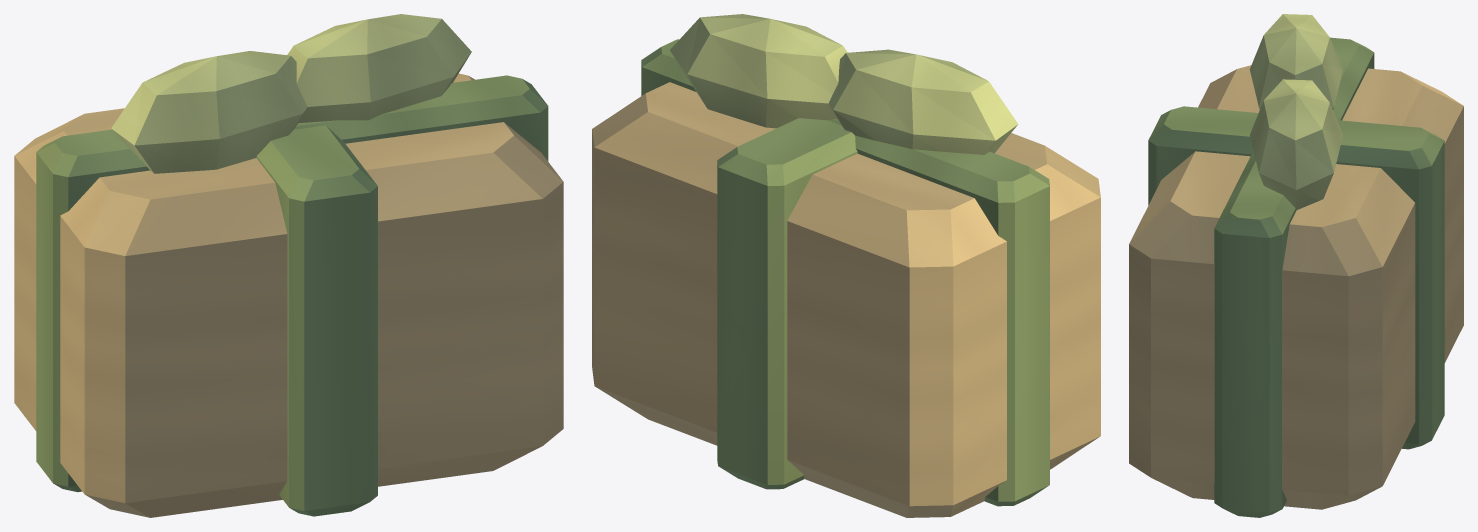
Rendered from resident_parcel.glb.
The picture shows the model from 3 angles, left to right: view 1: azimuth 30°, elevation 25°; view 2: azimuth 150°, elevation 25°; view 3: azimuth 270°, elevation 25°; orthographic projection. The views are drawn at different scales.
Parts seen in each view (by area): view 1: Miro · Kräuterpäckchen; view 2: Miro · Kräuterpäckchen; view 3: Miro · Kräuterpäckchen.
Boxes of the visible parts, left/top/right/bottom form: Miro · Kräuterpäckchen: left=14, top=14, right=563, bottom=517; Miro · Kräuterpäckchen: left=592, top=14, right=1100, bottom=517; Miro · Kräuterpäckchen: left=1129, top=14, right=1463, bottom=517.
Bounding box in the file's own units: 0.2198 × 0.1865 × 0.1536.
Materials: 2 (2 with a texture image).
